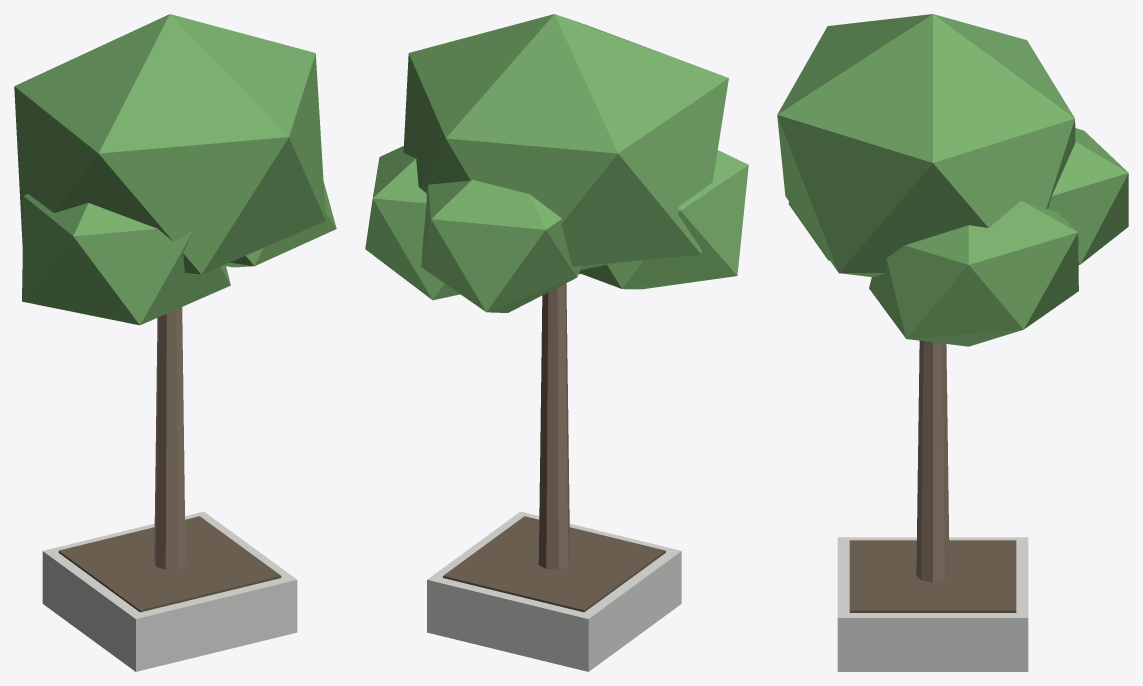
Rendered from tree_planter.glb.
3 views of the same model, side by side, from view 1: azimuth 30°, elevation 25°; view 2: azimuth 150°, elevation 25°; view 3: azimuth 270°, elevation 25° (orthographic). The views are drawn at different scales.
Visible parts, largest first — view 1: tree_planter; view 2: tree_planter; view 3: tree_planter.
Part boxes in pixels (box(x1,y1,x2,y2)): tree_planter: box(14, 14, 336, 671); tree_planter: box(365, 14, 748, 671); tree_planter: box(777, 14, 1128, 671).
Bounding box in the file's own units: 3.2 × 5.72 × 2.95.
